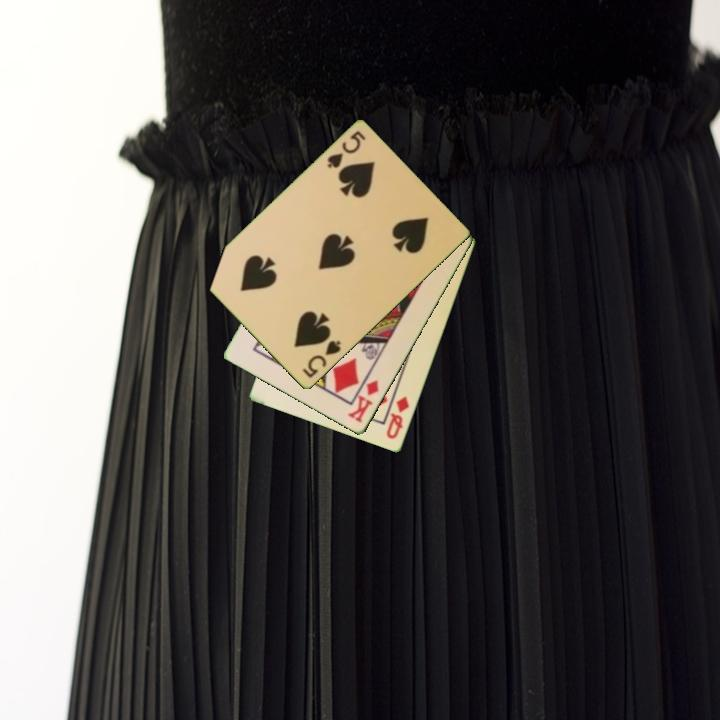5s: (323, 127, 368, 172), (299, 337, 344, 381)
Kd: (344, 376, 382, 426)
Qd: (383, 392, 412, 442)
